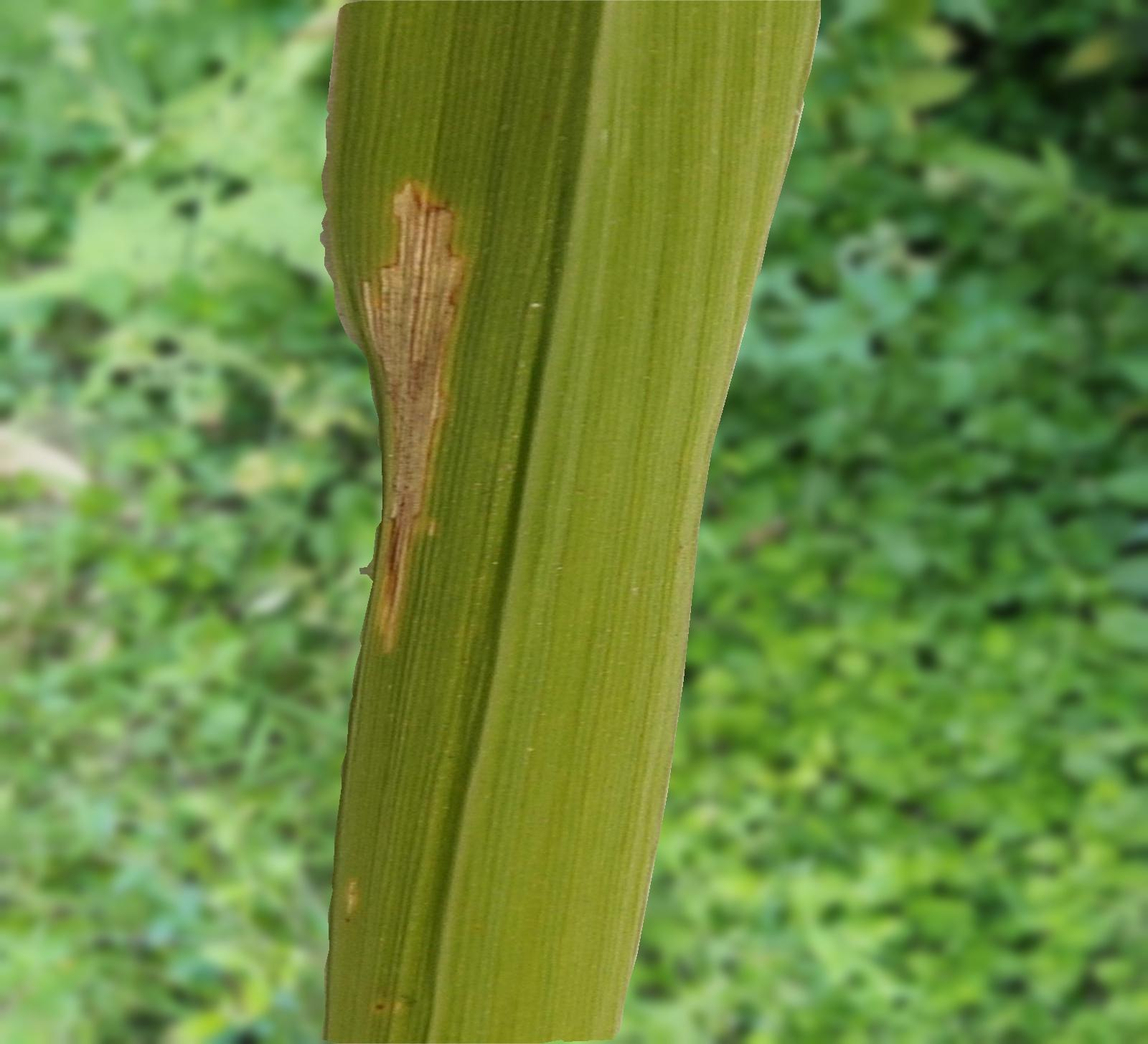BLS: (362, 181, 466, 650)
LEAF: (320, 0, 820, 1043)
